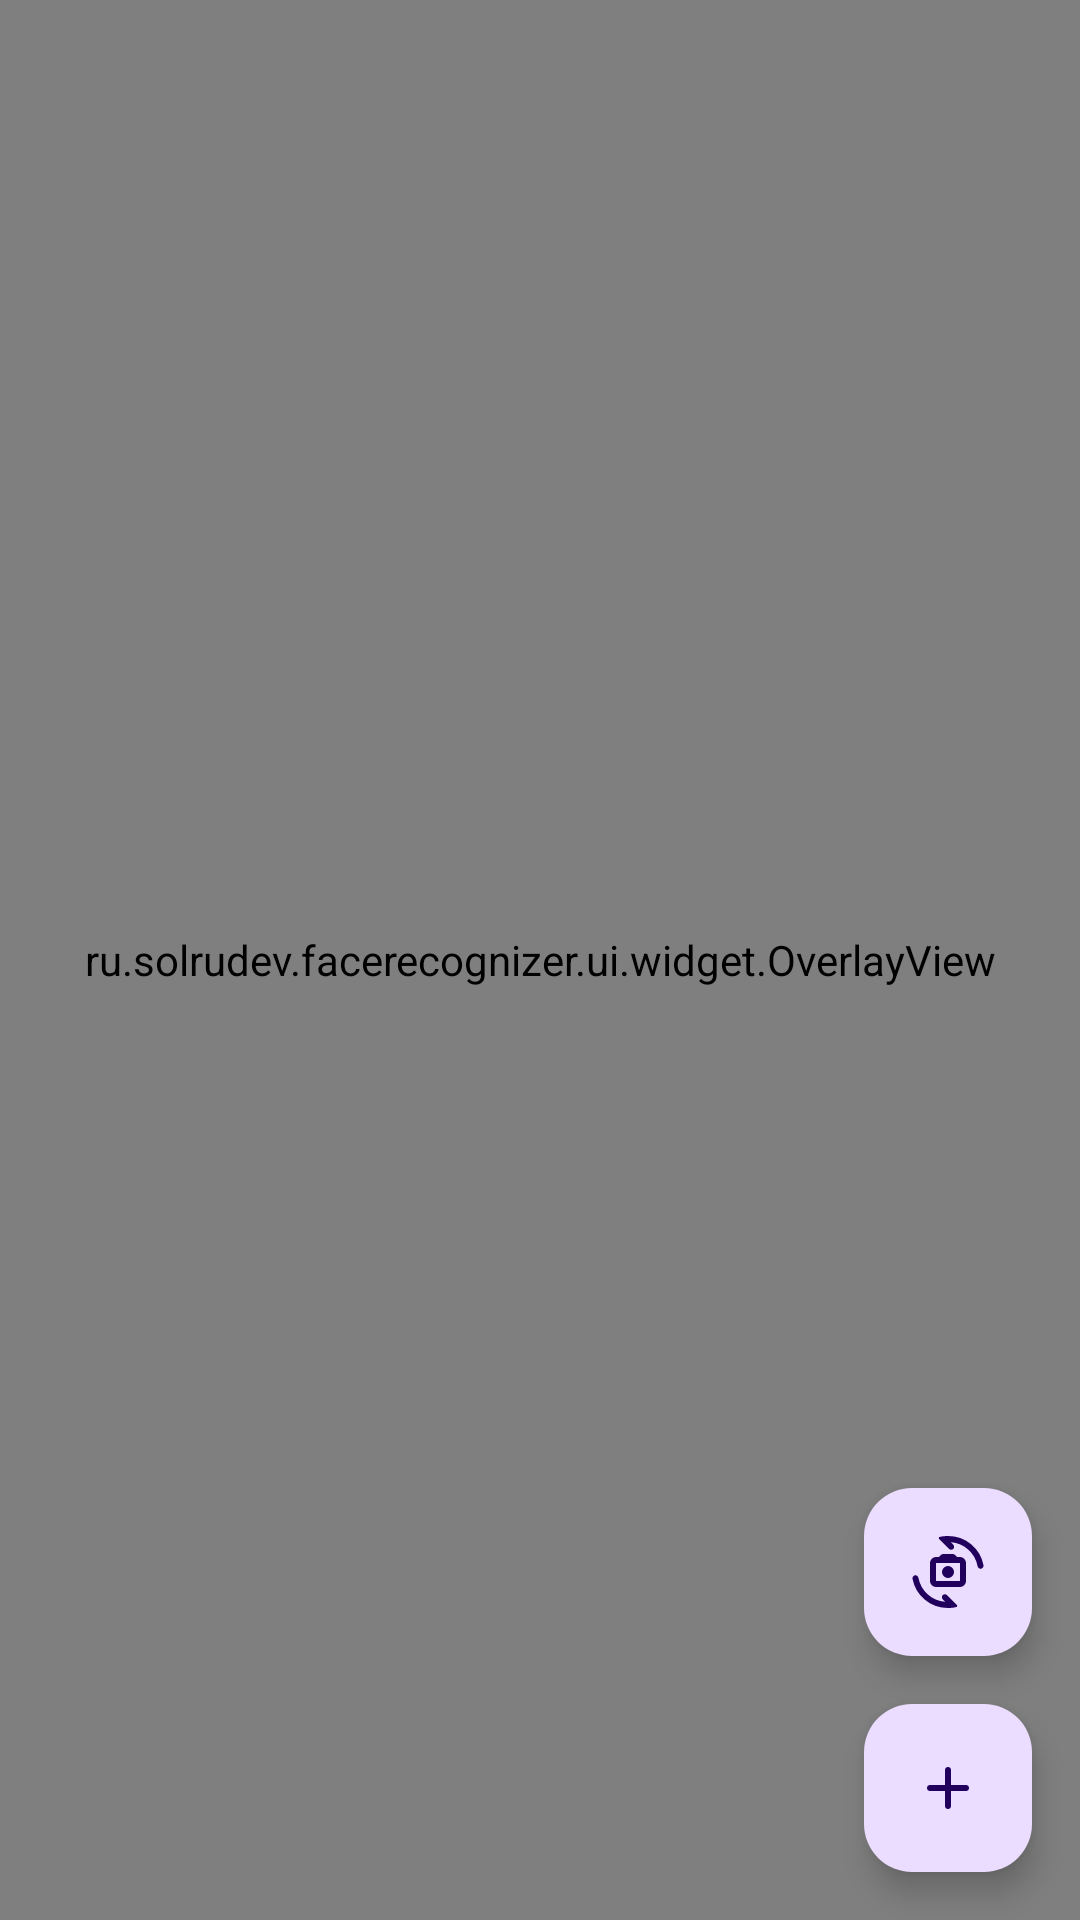

Where icons sit on this 1080px×1920px app screen, as (x1, y1, x2, y2):
add: (864, 1704, 1032, 1872)
camera switch: (864, 1488, 1032, 1656)
